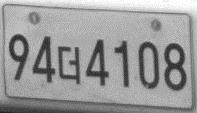0: (137, 41, 161, 89)
1: (110, 38, 133, 88)
4: (31, 34, 56, 83), (85, 38, 110, 86)
8: (163, 42, 188, 91)
9: (7, 33, 30, 81)
더: (57, 45, 82, 85)
